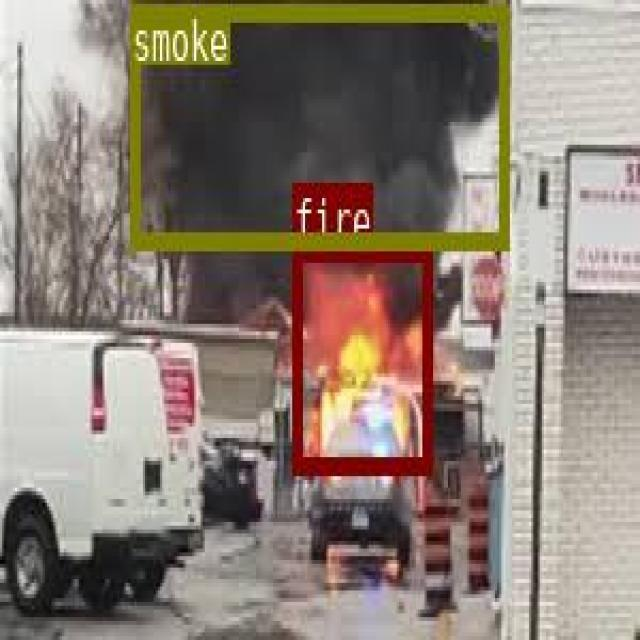fire: (292, 242, 431, 472)
smoke: (130, 1, 506, 246)
